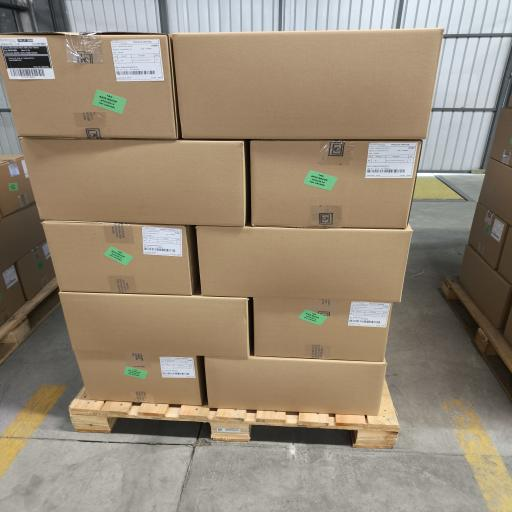pallet: (70, 383, 399, 448), (443, 277, 511, 399), (0, 278, 60, 363)
